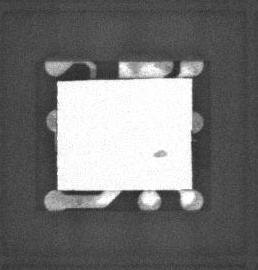DIE_INK: (145, 156, 161, 166)
